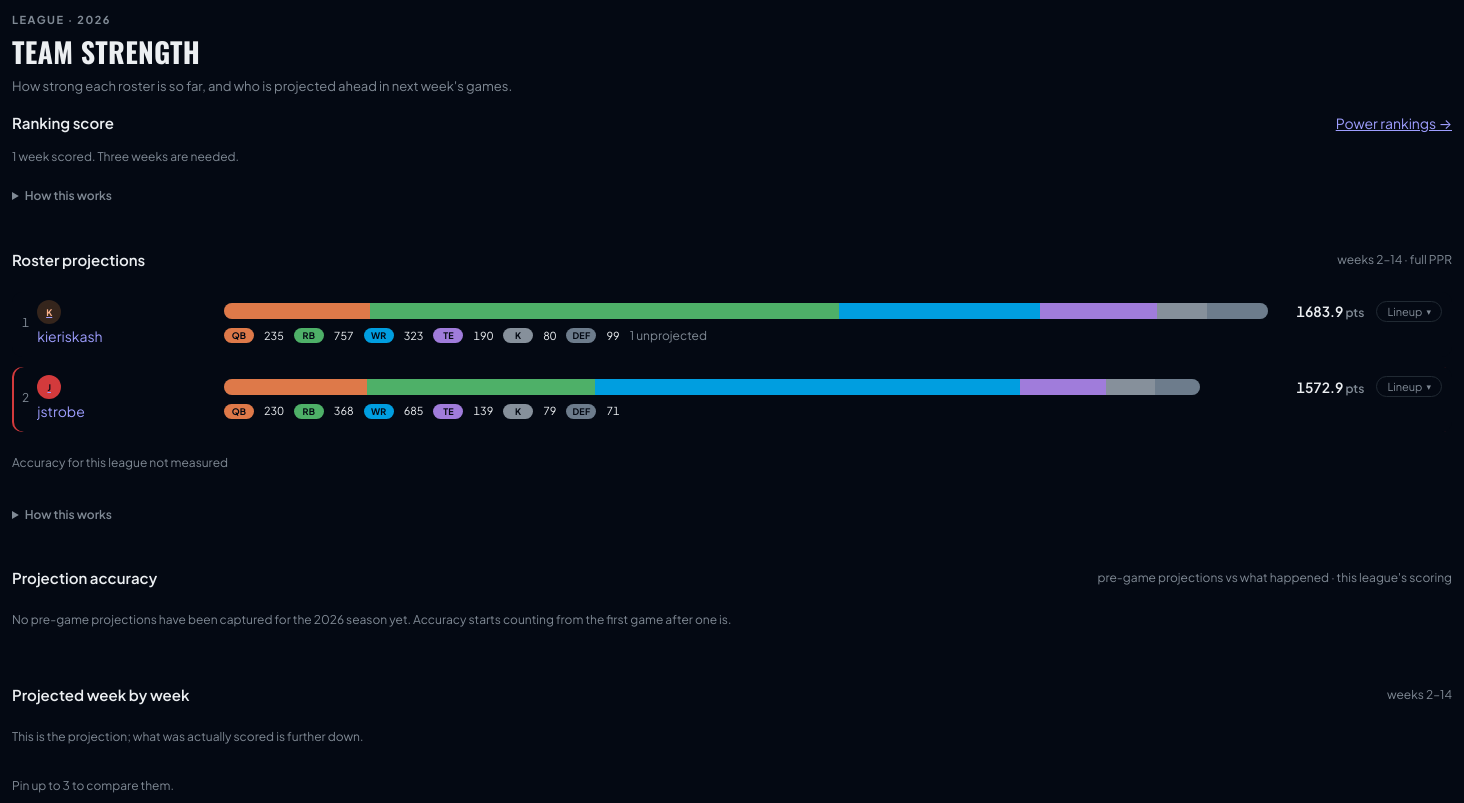
LeagueAnalysis › opens the lineup behind a bar and names the players in it
Expected: the text "Bijan Robinson" is not shown
Click the 1st button "Lineup ▾". click: point(1409, 312)
box: 1376,301 -> 1442,322
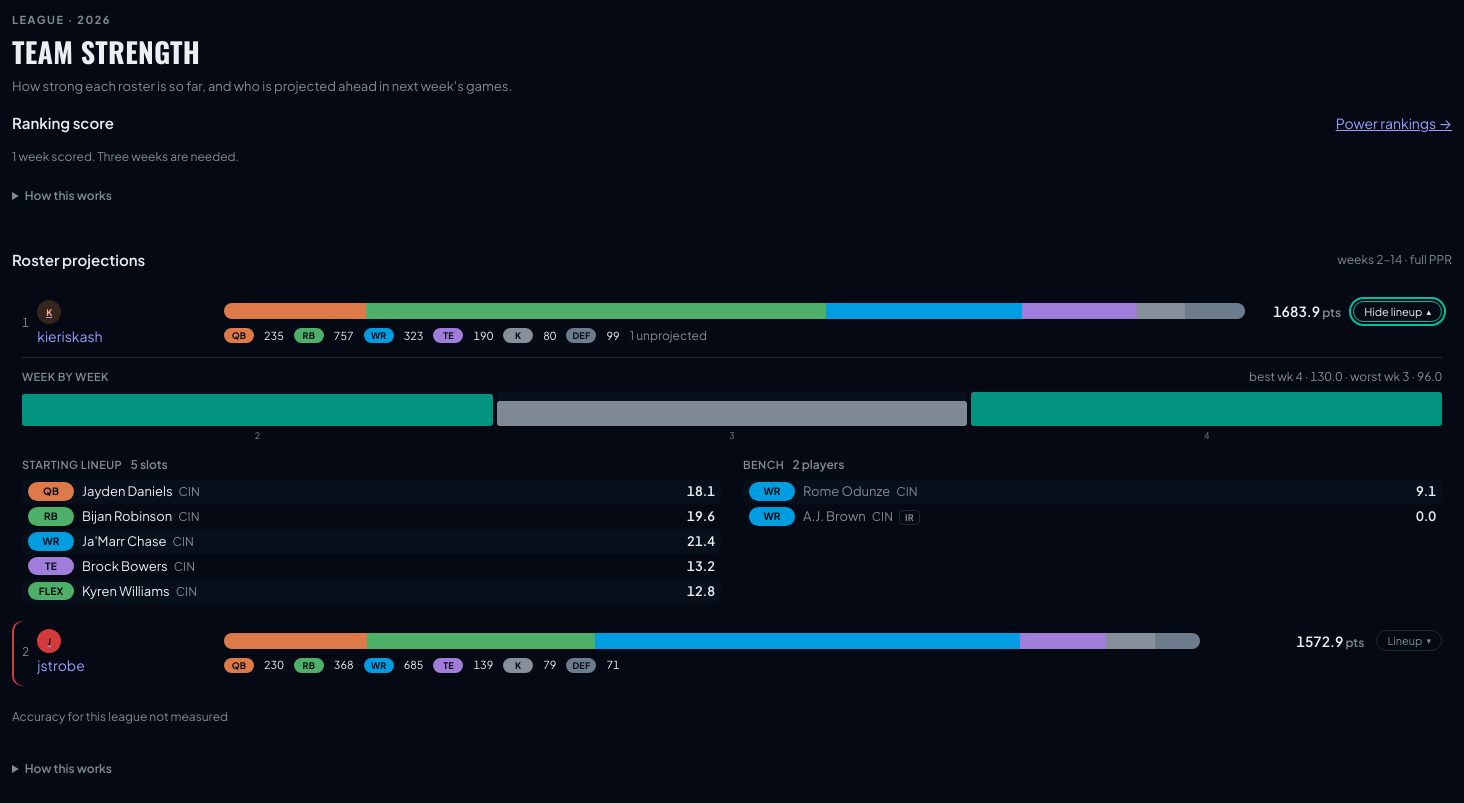
Expected: the text "Bijan Robinson" is shown, 82,508 -> 172,524
Expected: the button "Hide lineup ▴" is expanded, 1353,301 -> 1442,322
